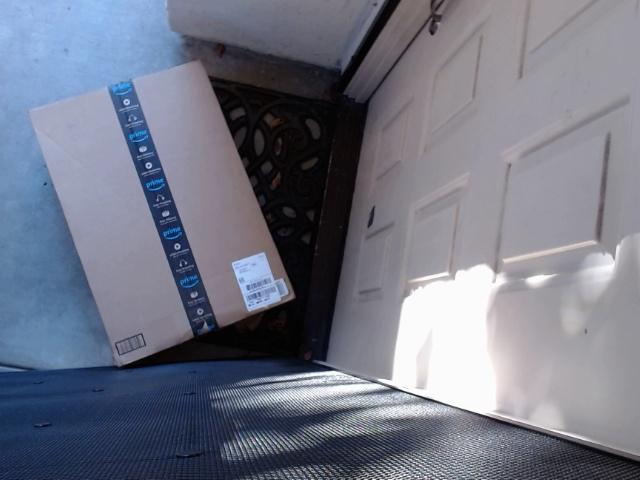box: (21, 70, 304, 370)
